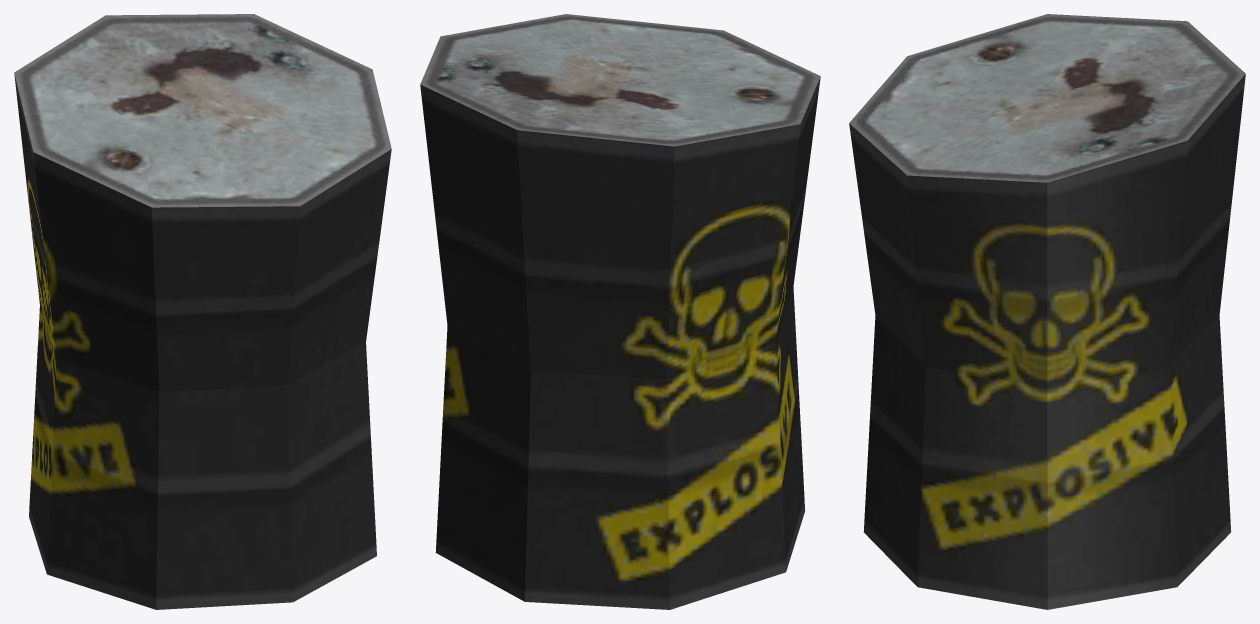
Rendered from item_drum.fbx.
The picture shows the model from 3 angles, left to right: view 1: azimuth 30°, elevation 25°; view 2: azimuth 150°, elevation 25°; view 3: azimuth 270°, elevation 25°; orthographic projection. The views are drawn at different scales.
Visible parts, largest first — view 1: item_drum; view 2: item_drum; view 3: item_drum.
Boxes of the visible parts, x1,y1,x2,y2 form: item_drum: [14, 14, 391, 609]; item_drum: [420, 14, 820, 609]; item_drum: [849, 14, 1245, 609].
Size of the model in its own units: 159 by 201 by 157.
